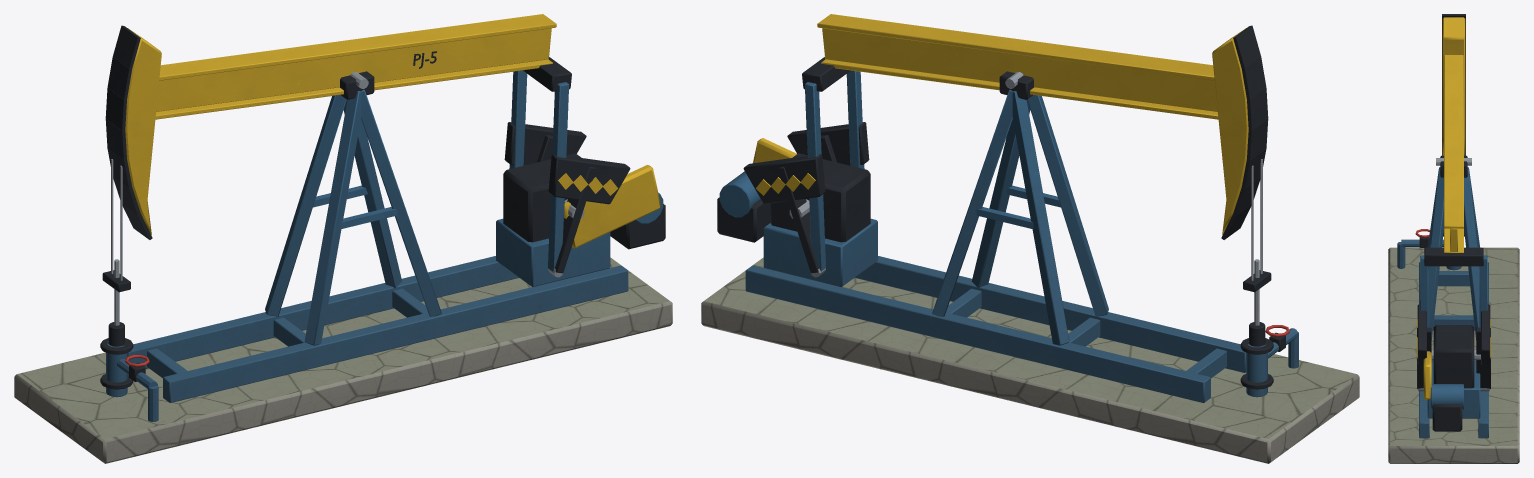
Rendered from pump_jack.glb.
3 renders of one model, left to right at view 1: azimuth 30°, elevation 25°; view 2: azimuth 150°, elevation 25°; view 3: azimuth 270°, elevation 25°, orthographic. The views are drawn at different scales.
Parts seen in each view (by area): view 1: pump_jack.001; view 2: pump_jack.001; view 3: pump_jack.001.
Boxes of the visible parts, x1,y1,x2,y2 form: pump_jack.001: (14,14,672,463); pump_jack.001: (701,14,1359,463); pump_jack.001: (1388,14,1519,463).
Size of the model in its own units: 7.5 by 4.62 by 2.
10 materials, 10 textured.
